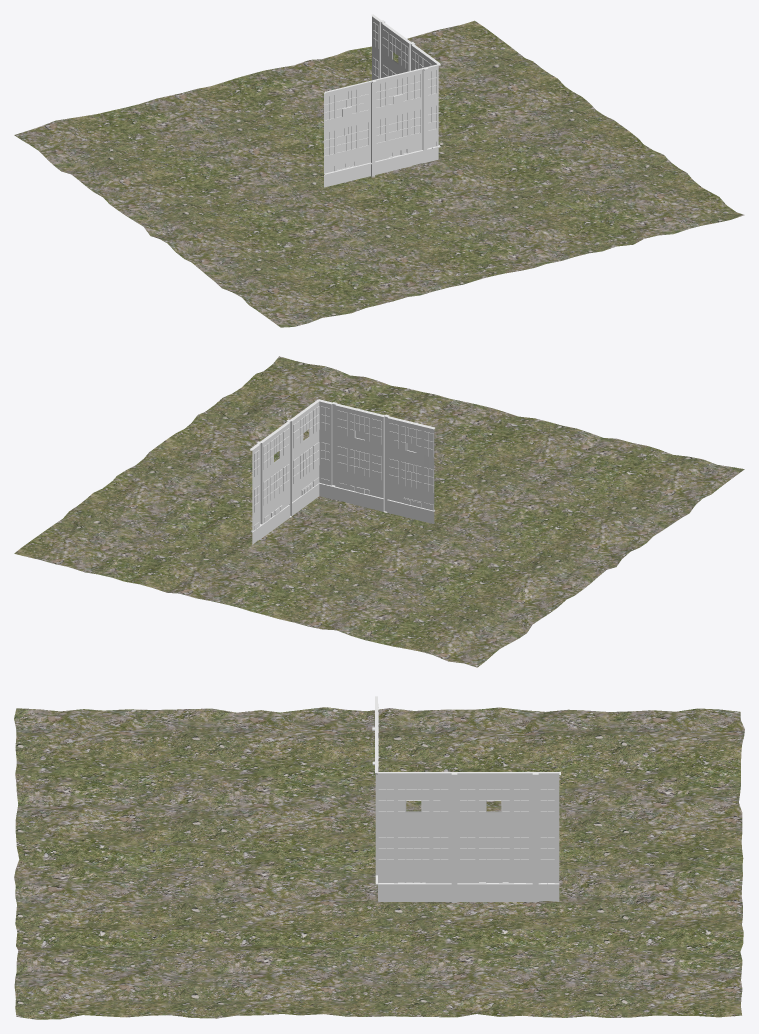
Rendered from building.glb.
3 views of the same model, one above another, from view 1: azimuth 30°, elevation 25°; view 2: azimuth 150°, elevation 25°; view 3: azimuth 270°, elevation 25° (orthographic). The views are drawn at different scales.
Visible parts, largest first — view 1: field, building; view 2: field, building; view 3: field, building.
Boxes of the visible parts, x1,y1,x2,y2 form: field: (14,20,744,327); building: (324,14,440,187); field: (14,356,744,667); building: (250,399,435,544); field: (14,707,744,1019); building: (372,696,560,902).
Bounding box in the file's own units: 51.06 × 10.4 × 51.07.
4 materials, 1 textured.
